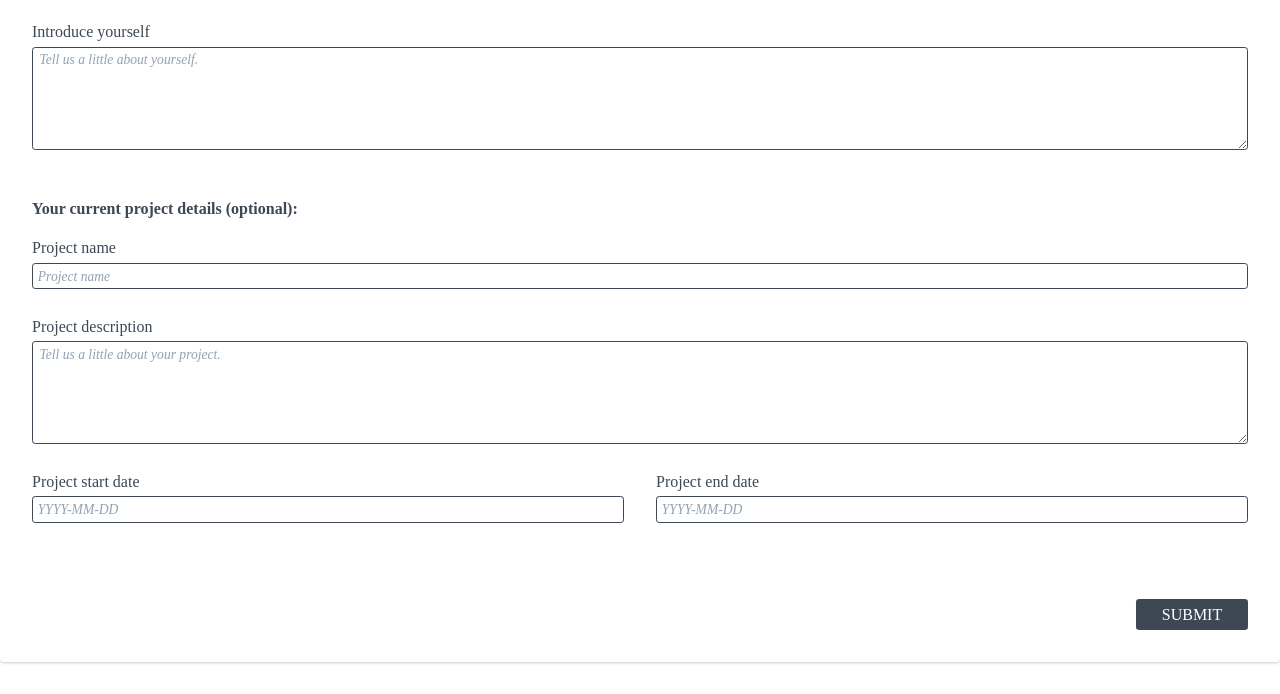
Producer Profile Form › should should show only required field errors if saving empty form
(page scrolled)
Click the button with test id "submit-button" at (1192, 615), box [1136,599,1248,630]
(page scrolled)
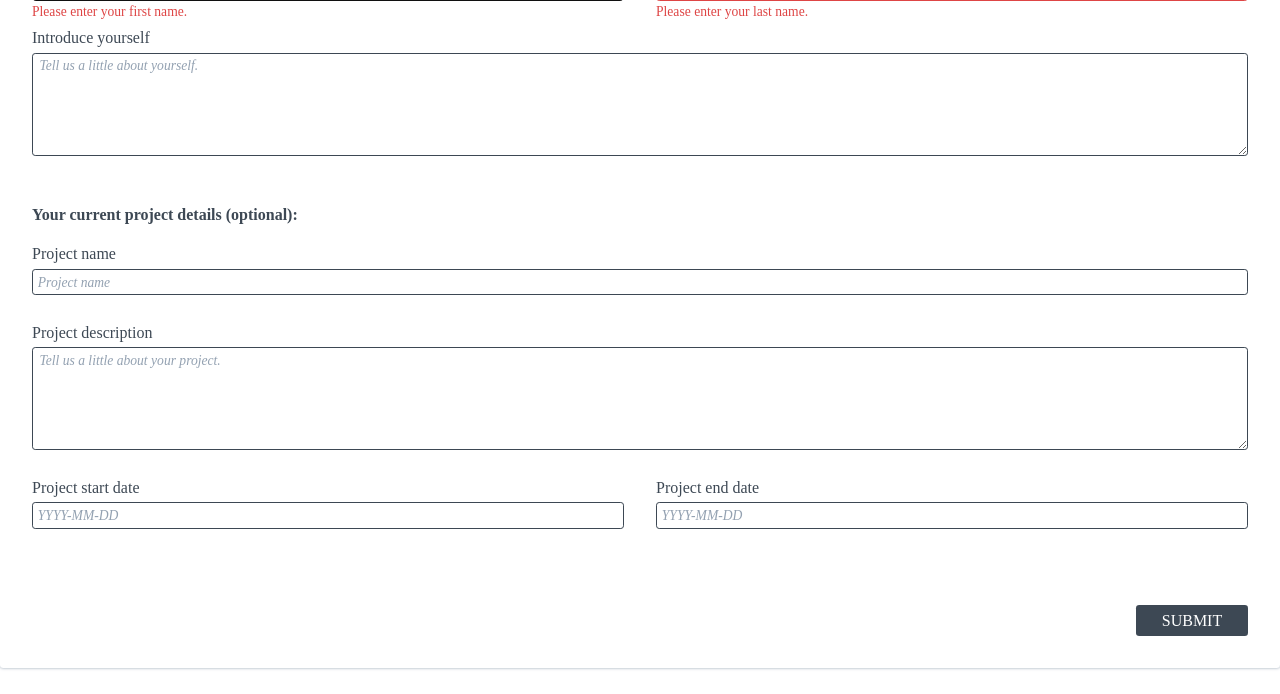
Now the message with test id "firstName-error" reads "Please enter your first name.", box [32,4,187,19]
Now the message with test id "lastName-error" reads "Please enter your last name.", box [656,4,808,19]
